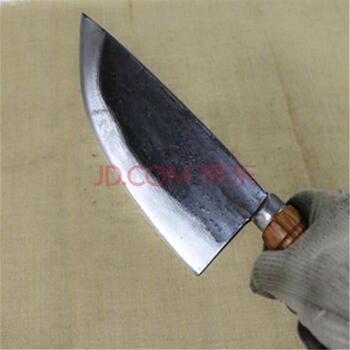knief: (54, 11, 300, 266)
